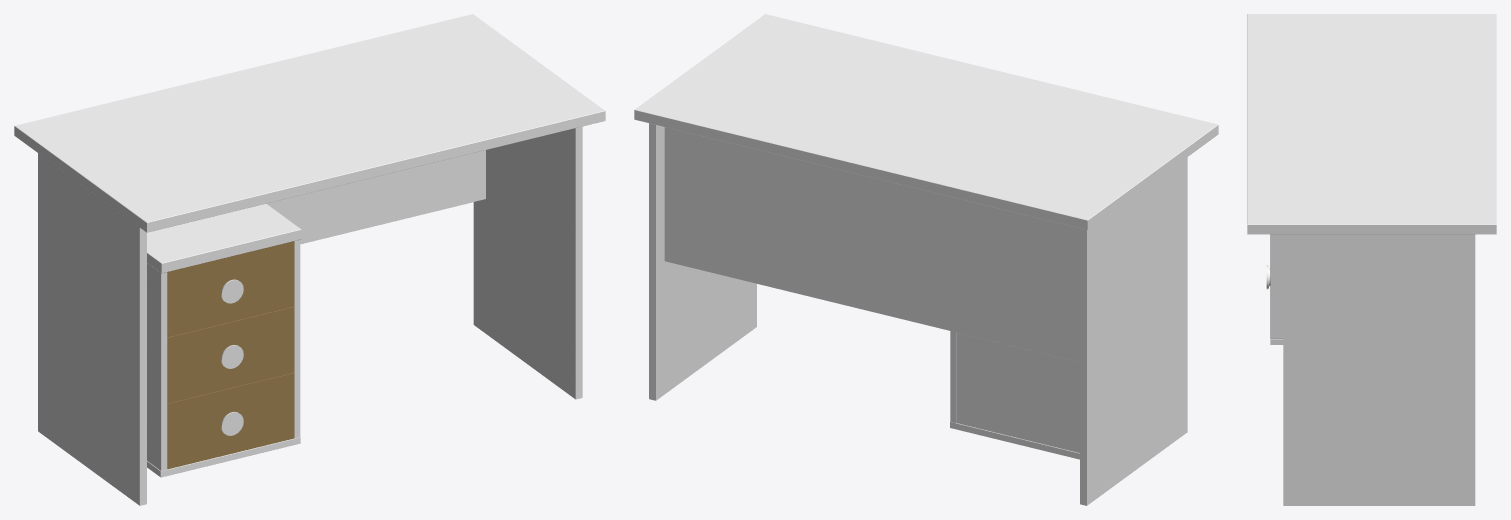
The model's file is Office table.FBX.
3 views of the same model, side by side, from view 1: azimuth 30°, elevation 25°; view 2: azimuth 150°, elevation 25°; view 3: azimuth 270°, elevation 25° (orthographic). The views are drawn at different scales.
Parts seen in each view (by area): view 1: Office table; view 2: Office table; view 3: Office table.
Part boxes in pixels (x1,y1,x2,y2): Office table: (14,14,605,505); Office table: (634,14,1218,505); Office table: (1247,14,1496,505).
Bounding box in the file's own units: 148 × 92.4 × 73.89.
Materials: 1 (1 with a texture image).
